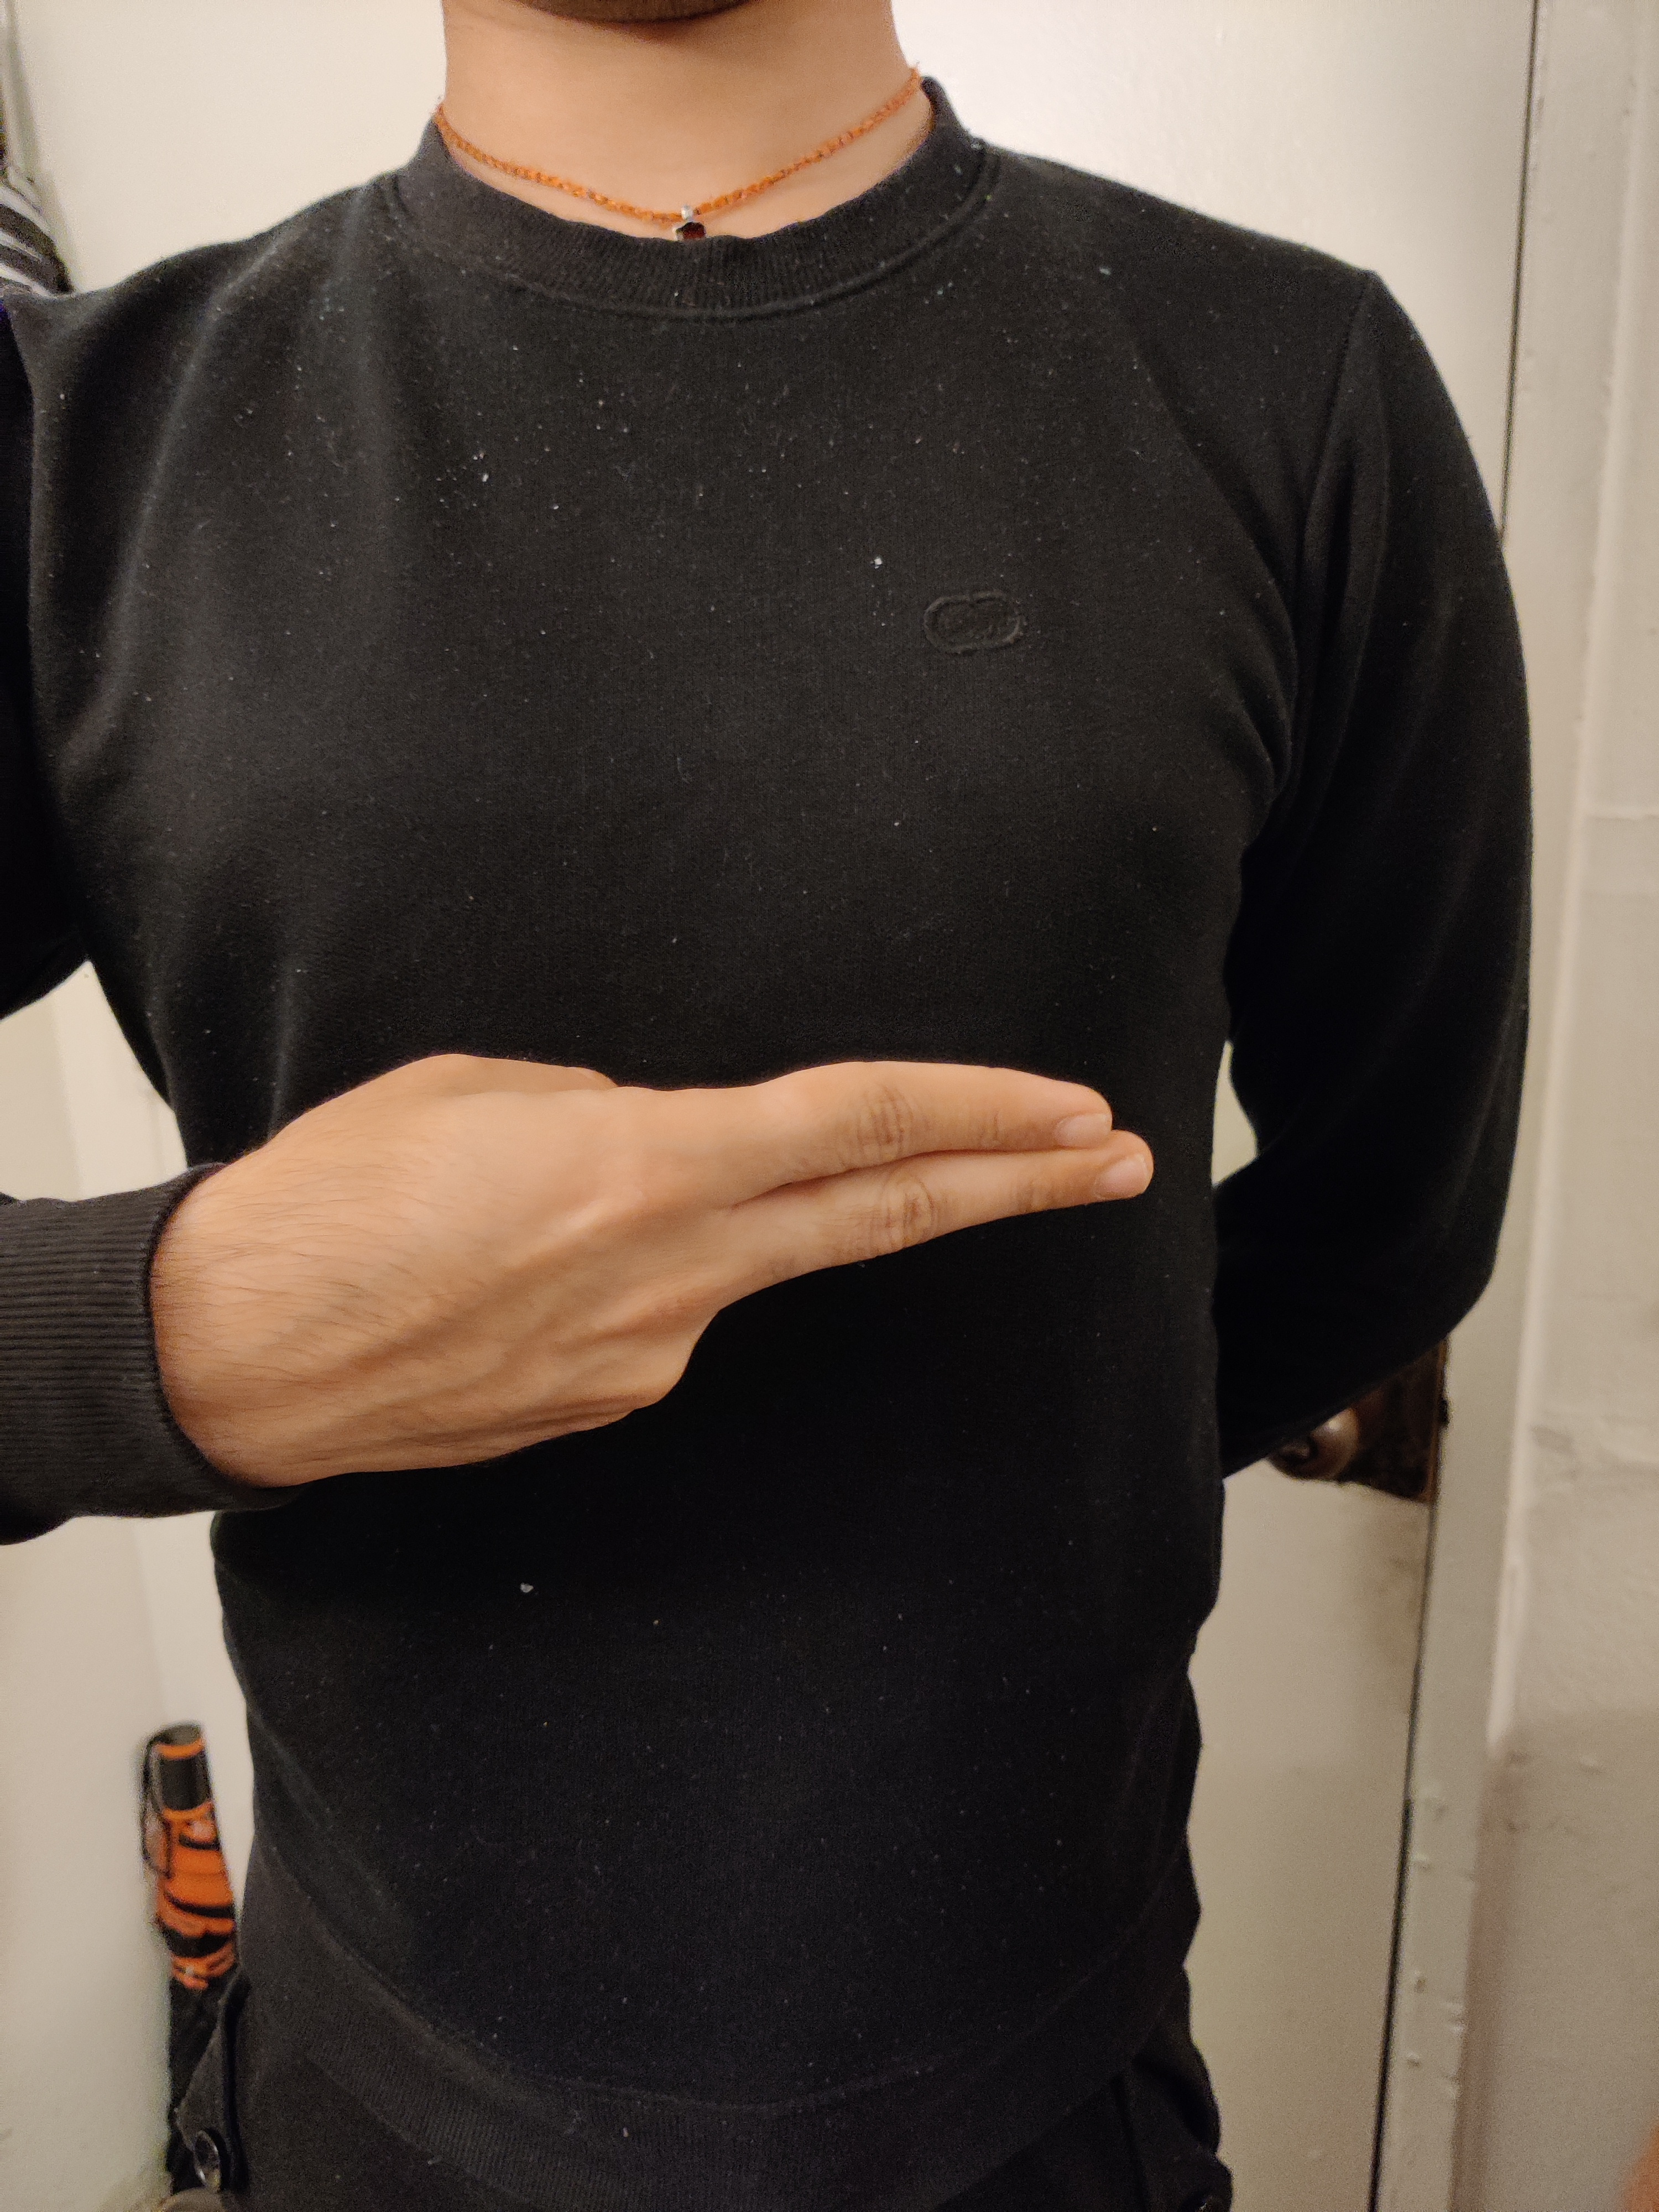left: (30, 817, 1354, 1555)
